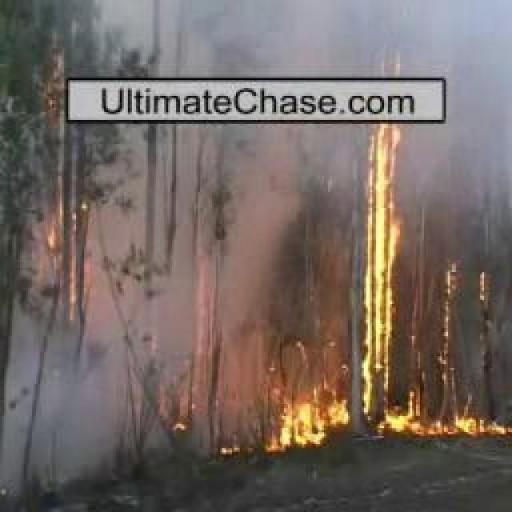smoke: (369, 72, 418, 436), (41, 175, 90, 324), (265, 381, 344, 451), (429, 405, 512, 433), (164, 386, 196, 434)
